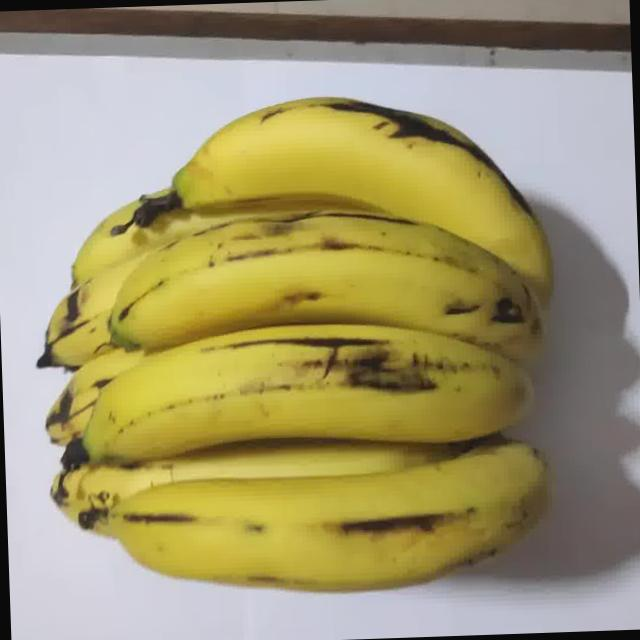banana_pacche: (8, 50, 580, 606)
